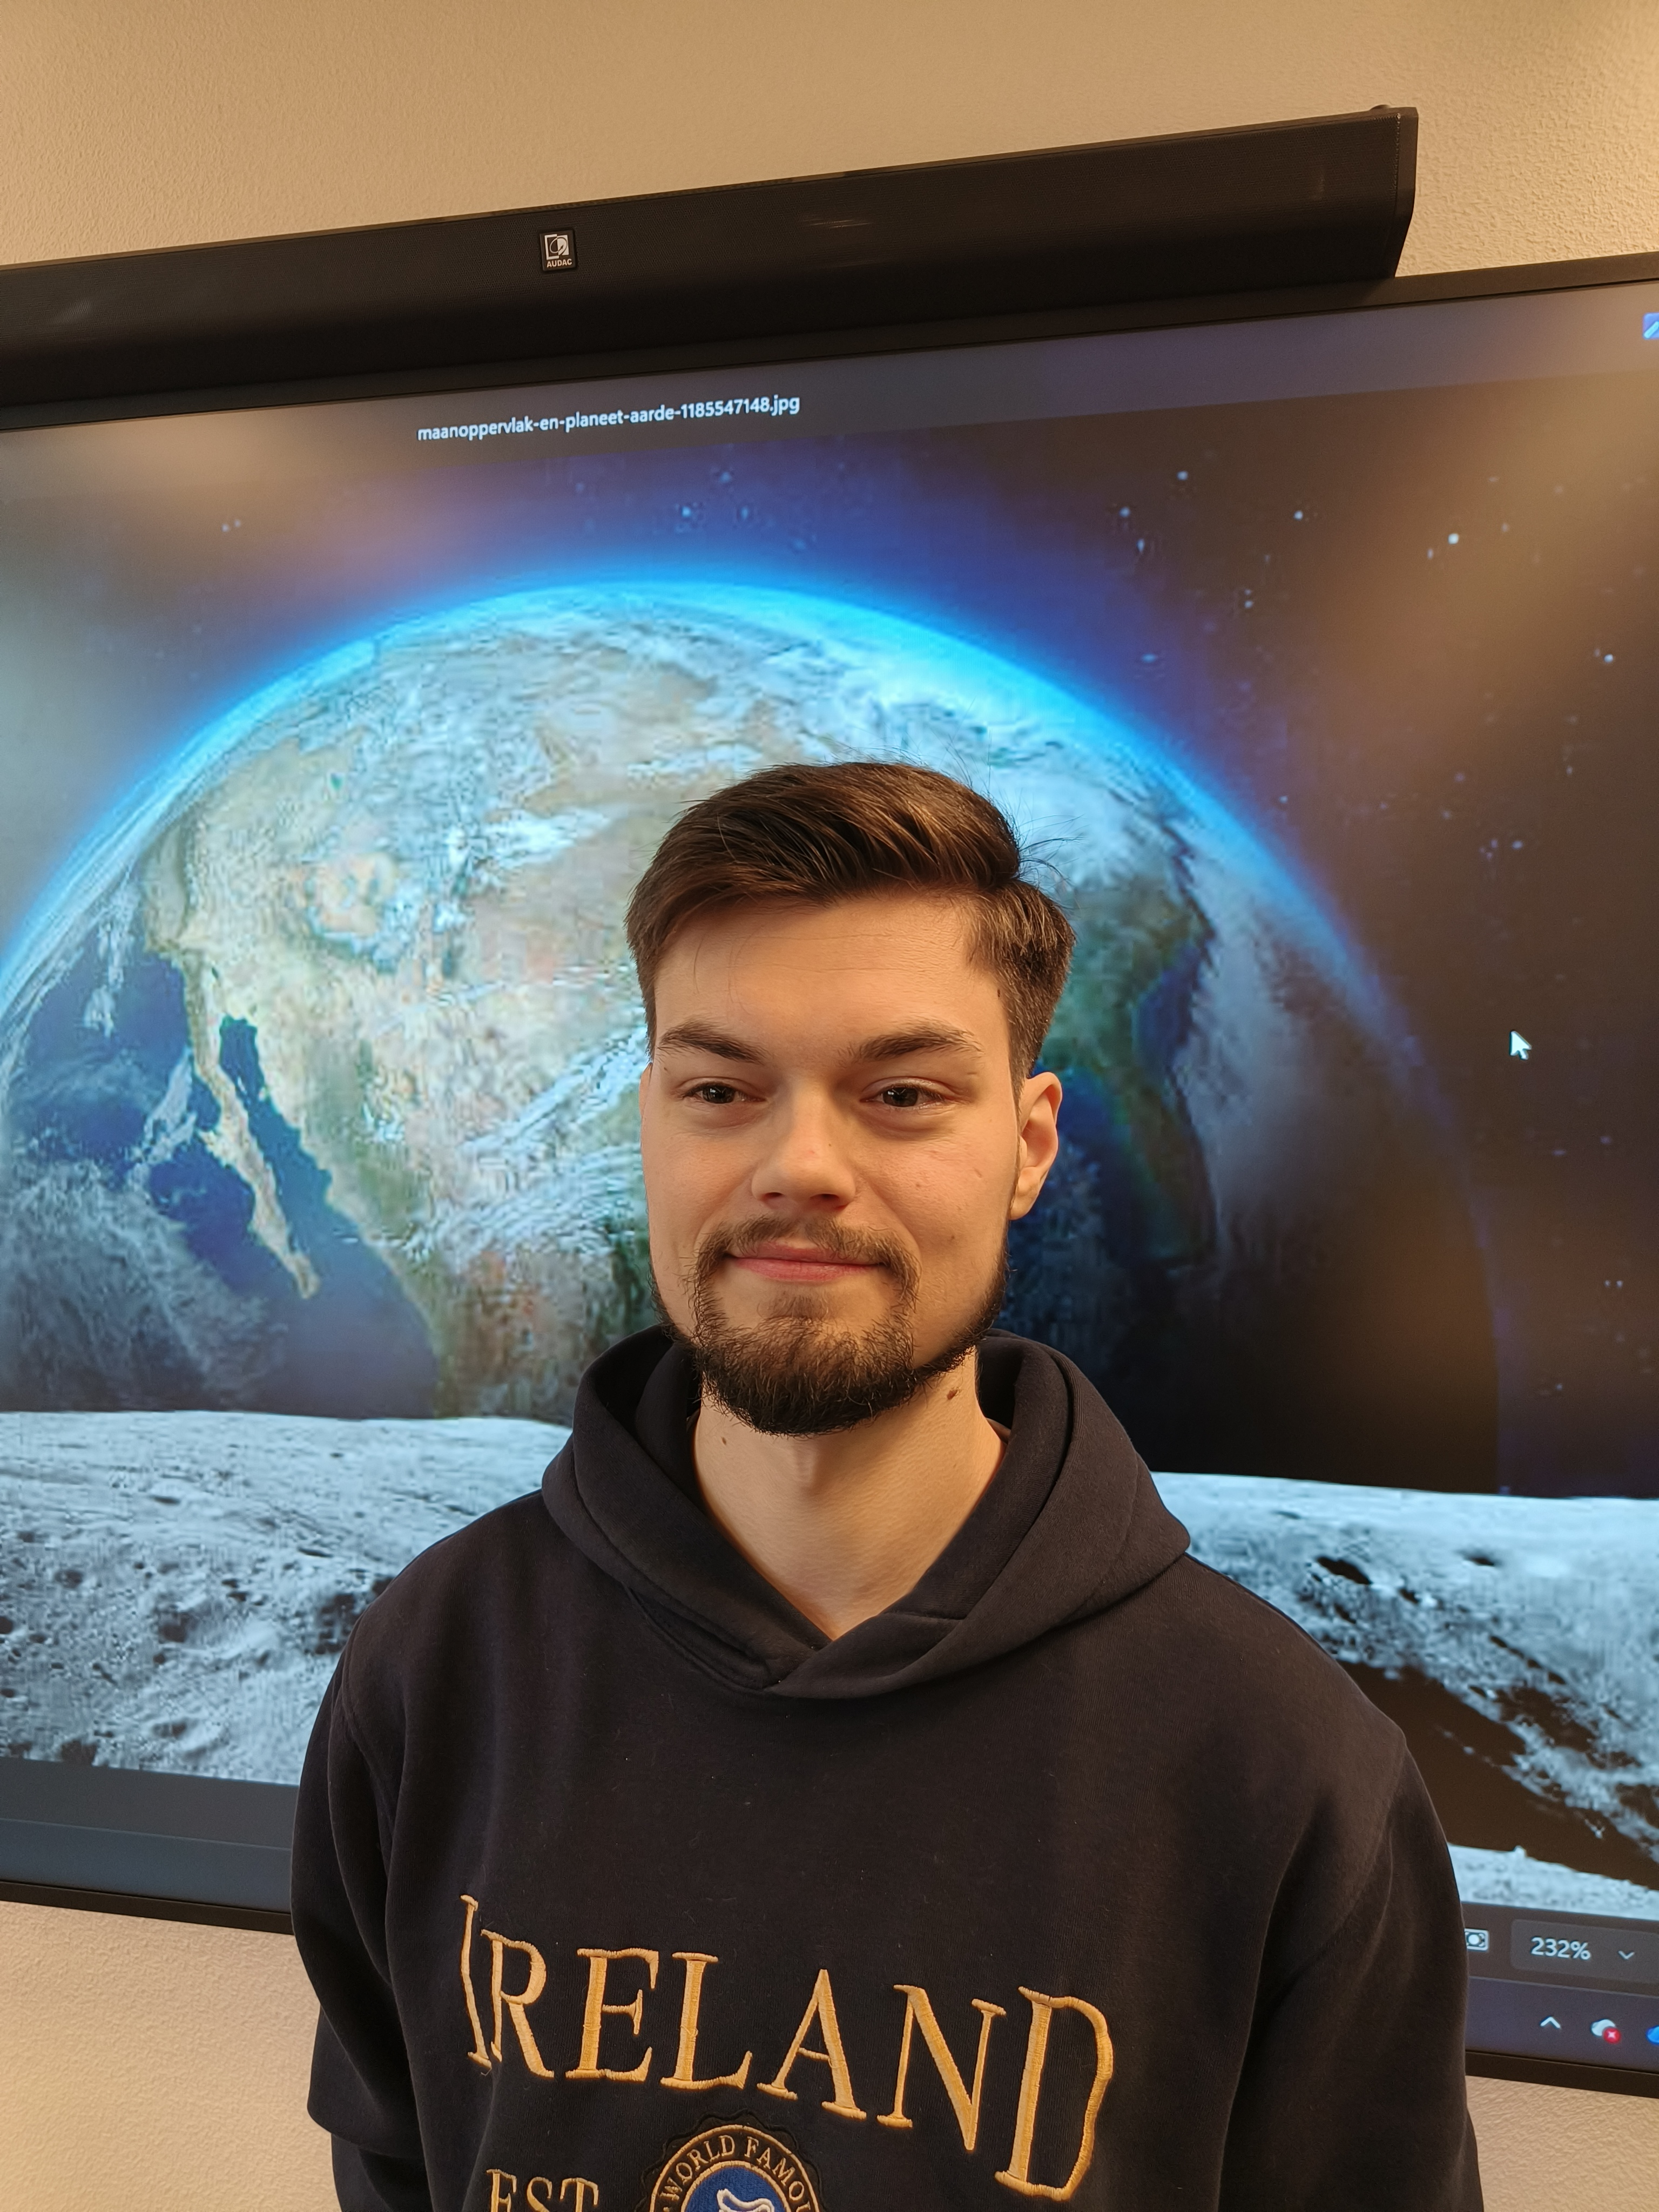face: (599, 788, 1123, 1395)
